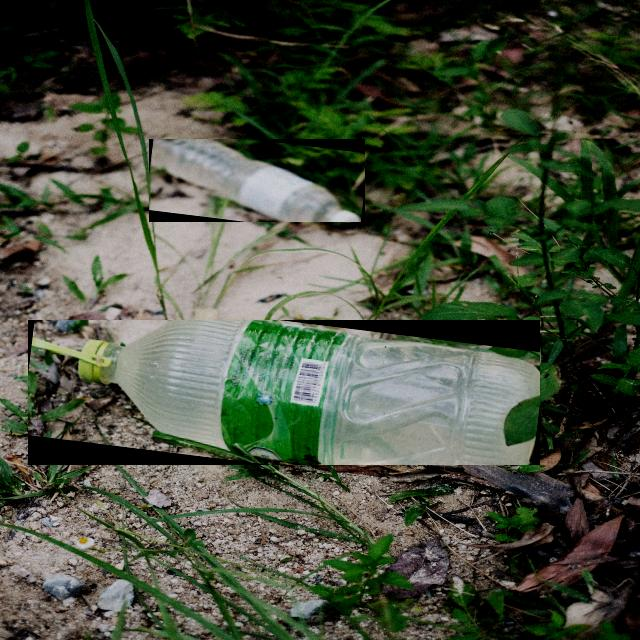Bottle: (27, 321, 539, 465), (148, 140, 363, 222)
